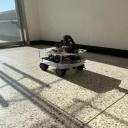cart: (39, 46, 87, 76)
